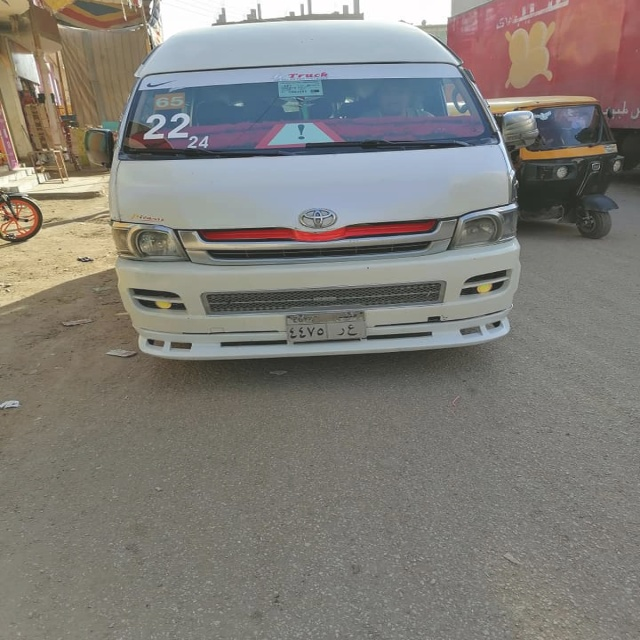License Plate: (284, 310, 366, 343)
